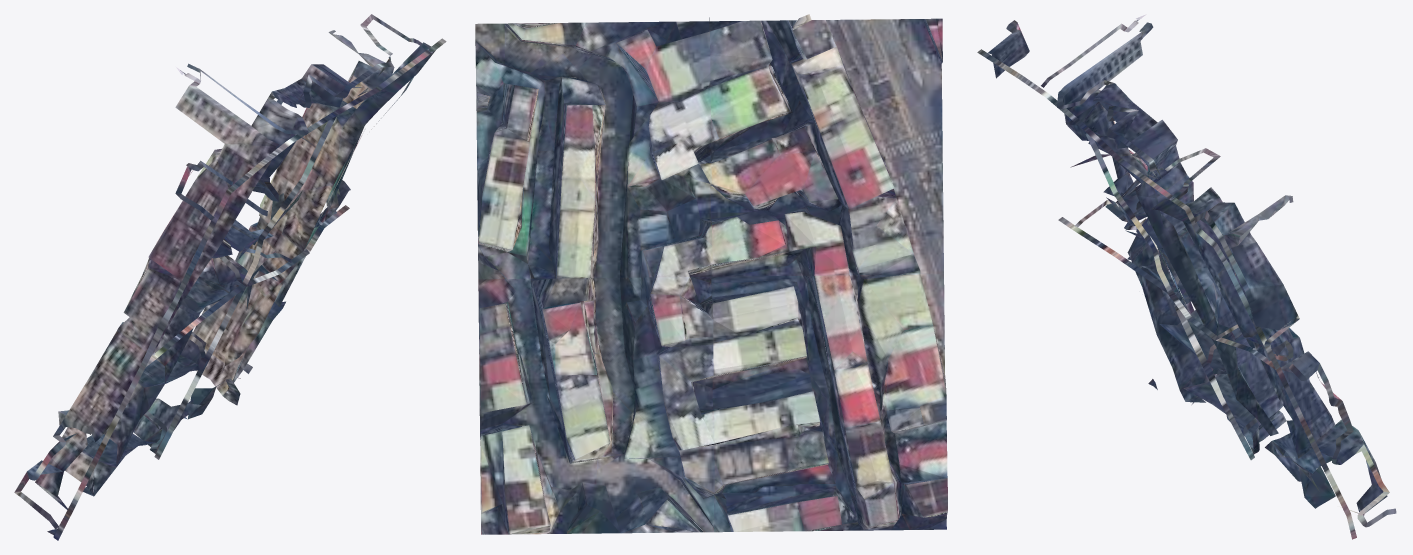
3 renders of one model, left to right at view 1: azimuth 30°, elevation 25°; view 2: azimuth 150°, elevation 25°; view 3: azimuth 270°, elevation 25°, orthographic. The views are drawn at different scales.
Bounding box in the file's own units: 162 × 160 × 140.
Materials: 1 (1 with a texture image).
